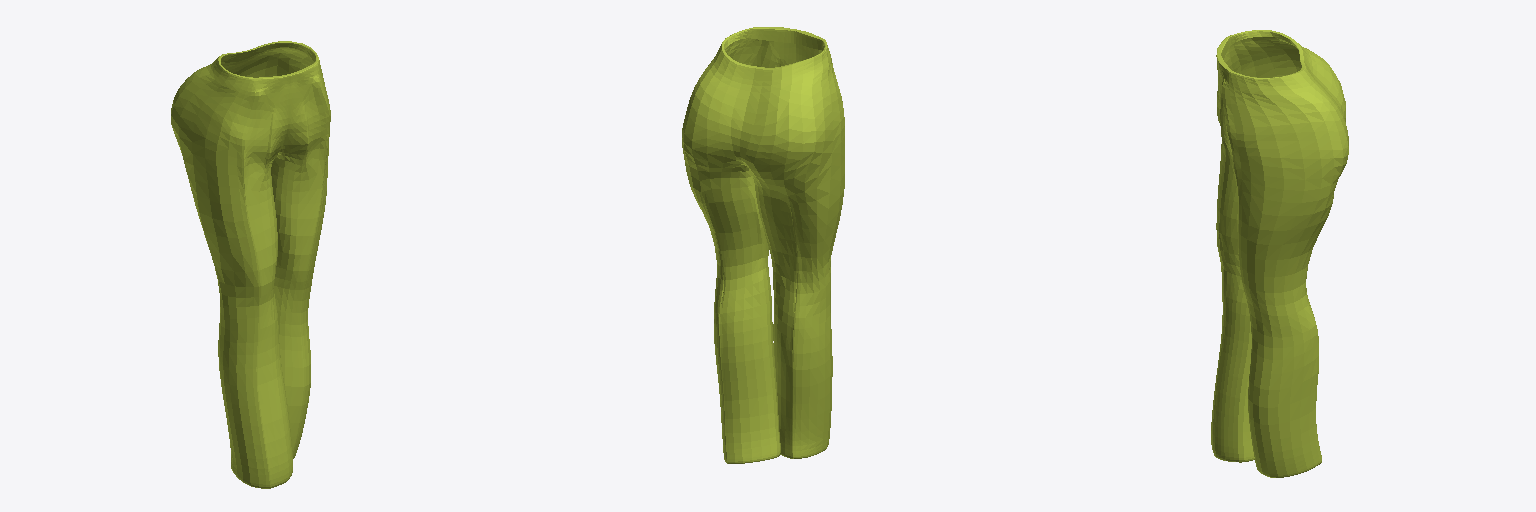
File: geziku5.obj
3 renders of one model, left to right at view 1: azimuth 30°, elevation 25°; view 2: azimuth 150°, elevation 25°; view 3: azimuth 270°, elevation 25°, orthographic.
Visible parts, largest first — view 1: geziku; view 2: geziku; view 3: geziku.
Boxes of the visible parts, x1=… form: geziku: x1=171, y1=41, x2=330, y2=488; geziku: x1=682, y1=27, x2=844, y2=463; geziku: x1=1211, y1=30, x2=1348, y2=477.
Bounding box in the file's own units: 1.99 × 5.83 × 1.77.